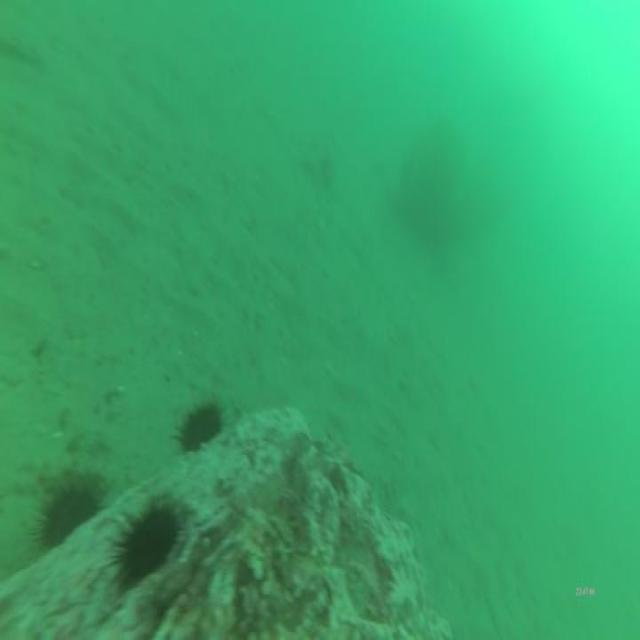echinus: (102, 496, 182, 599), (28, 479, 100, 558), (174, 400, 222, 463)
